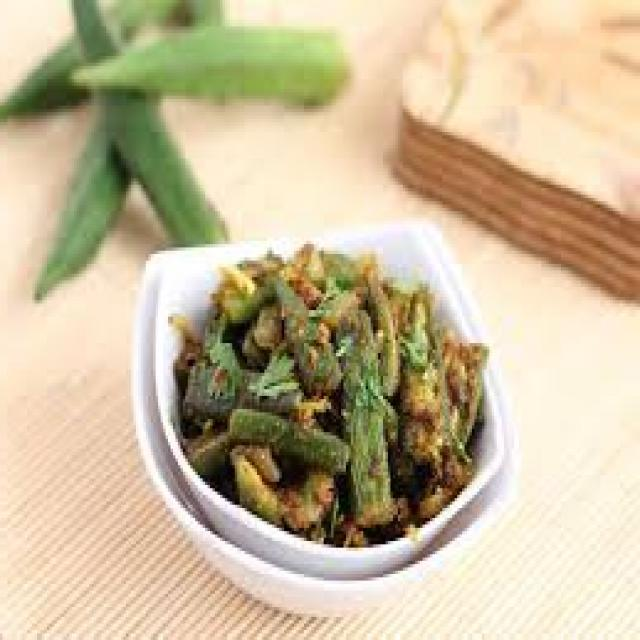Bhindi Masala: (166, 234, 492, 547)
